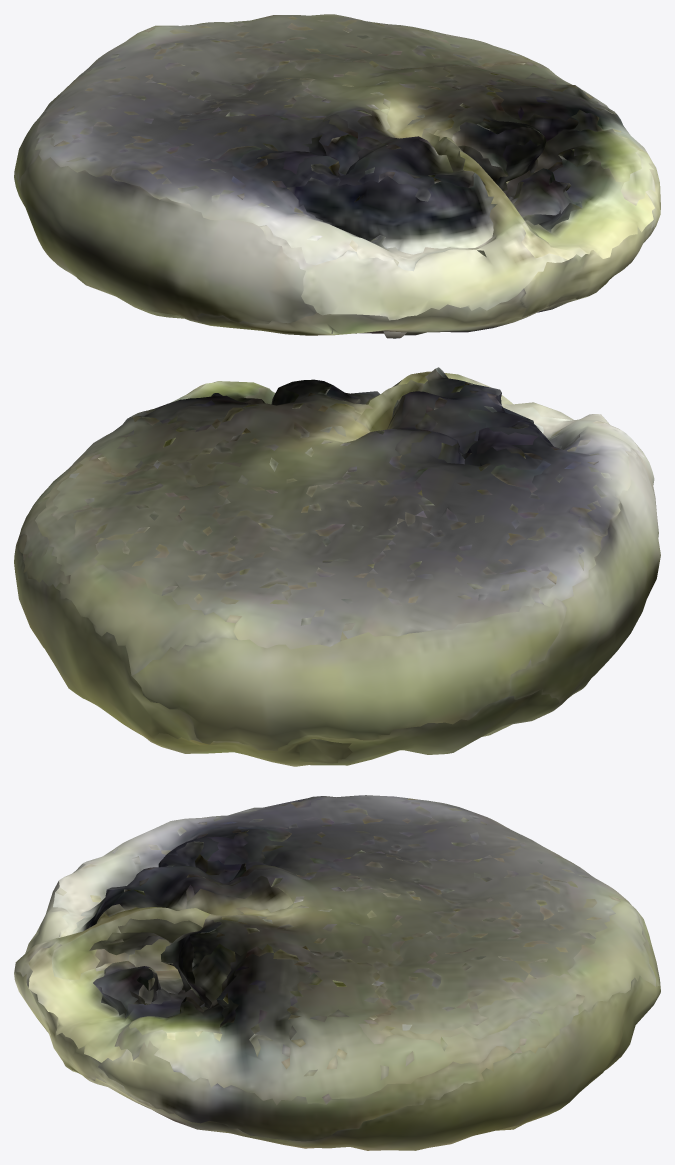
The model's file is 7_lime.glb.
3 views of the same model, one above another, from view 1: azimuth 30°, elevation 25°; view 2: azimuth 150°, elevation 25°; view 3: azimuth 270°, elevation 25° (orthographic). The views are drawn at different scales.
Visible parts, largest first — view 1: 7_lime; view 2: 7_lime; view 3: 7_lime.
Boxes of the visible parts, x1,y1,x2,y2 form: 7_lime: [14, 14, 660, 338]; 7_lime: [14, 367, 660, 766]; 7_lime: [14, 795, 660, 1150].
Size of the model in its own units: 0.3901 by 0.1555 by 0.4253.
1 material, 1 textured.
